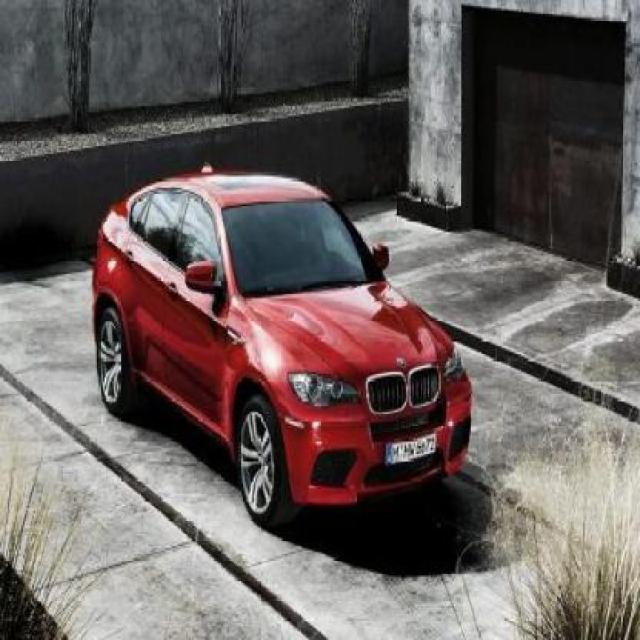car: (91, 171, 472, 532)
